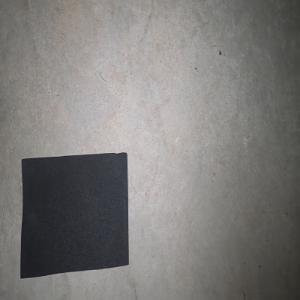PaintChip: (20, 152, 128, 278)
